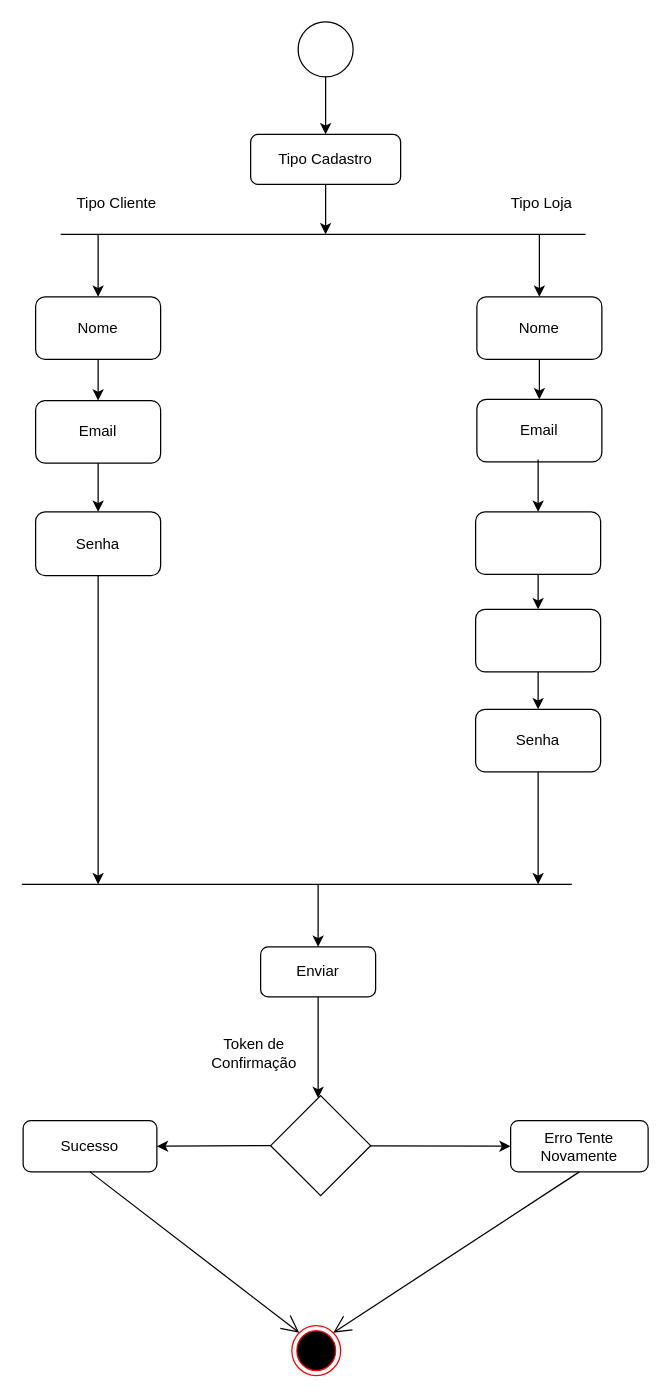
The diagram is 670 pixels wide and 1398 high, and some of its shapes have lost their labels. The shapes that lost their labels are listed below. From the top down, each one's centre as x and y in pixels, then its label:
At point 537,542: "Nome Empresa".
At point 537,640: "CNPJ".
